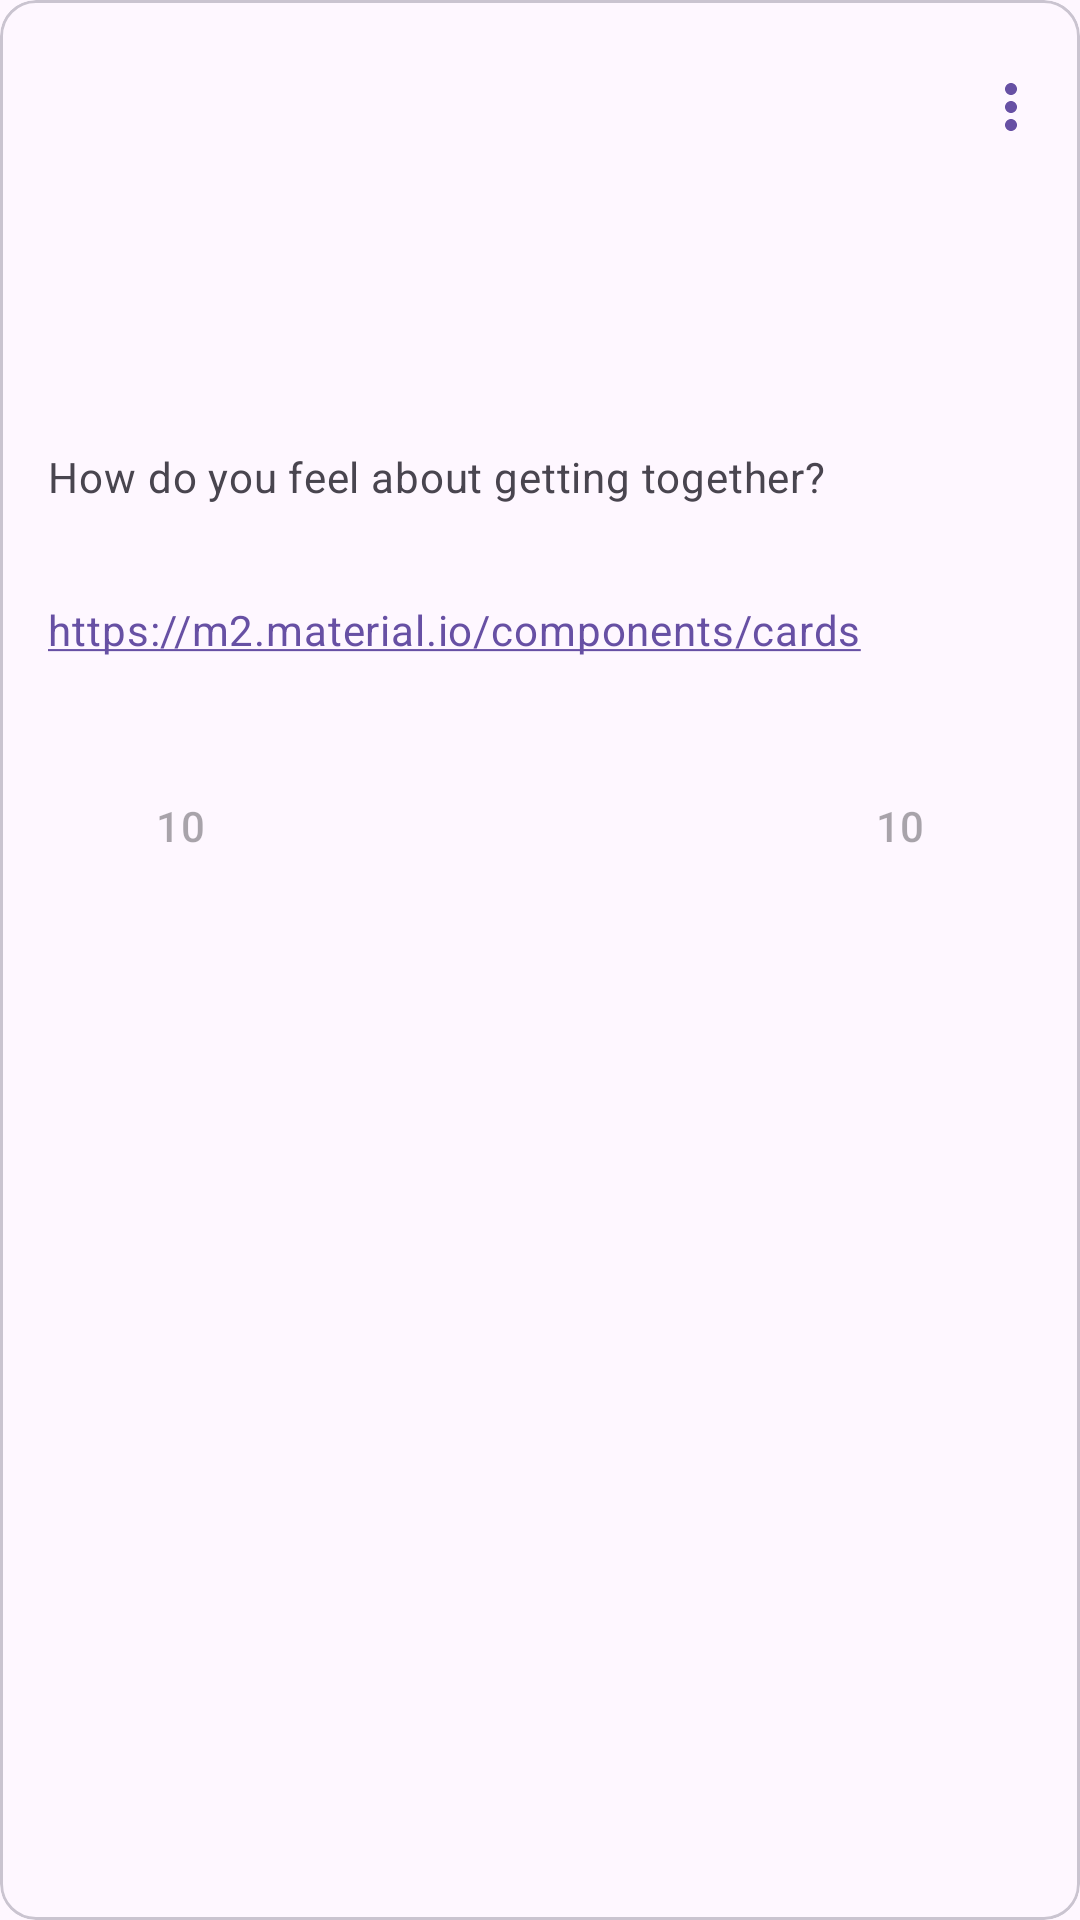

Icons on this 1080w x 1920h Android screen, each with its box as (x1, y1, x2, y2):
menu: (1005, 83, 1017, 131)
